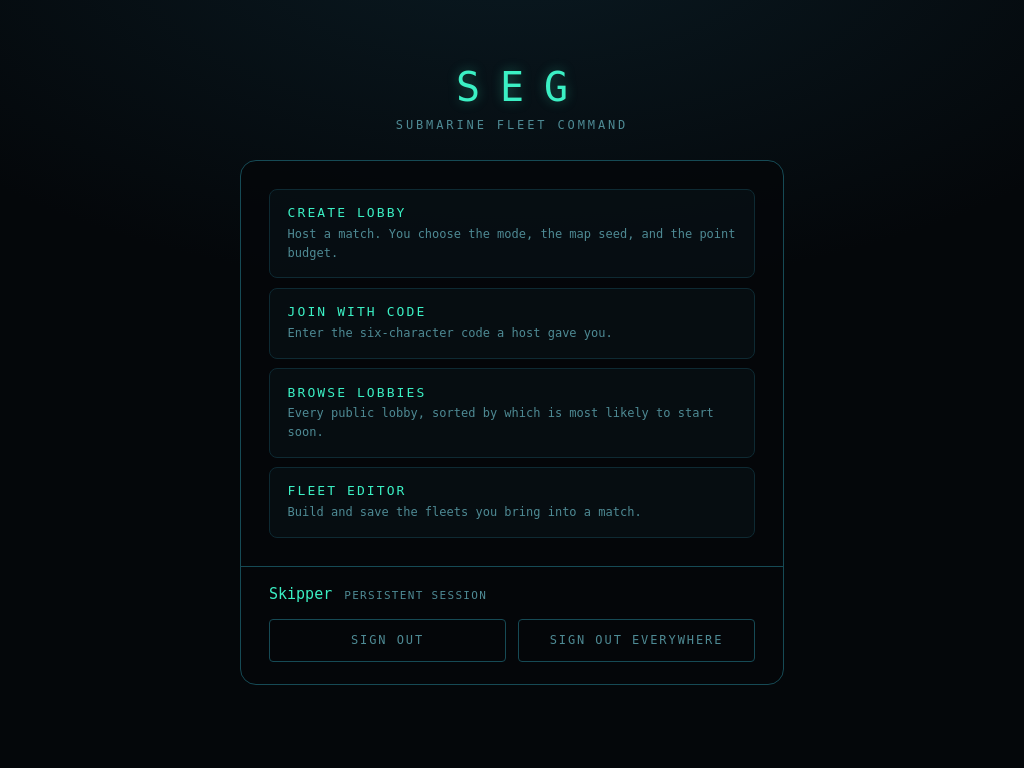
Test: the home page, signed in › reaches {}
What coordinates should you click on to do the following:
click the button "CREATE LOBBY"
I would click on:
 (512, 234)
Its box is x1=269 y1=189 x2=755 y2=278.
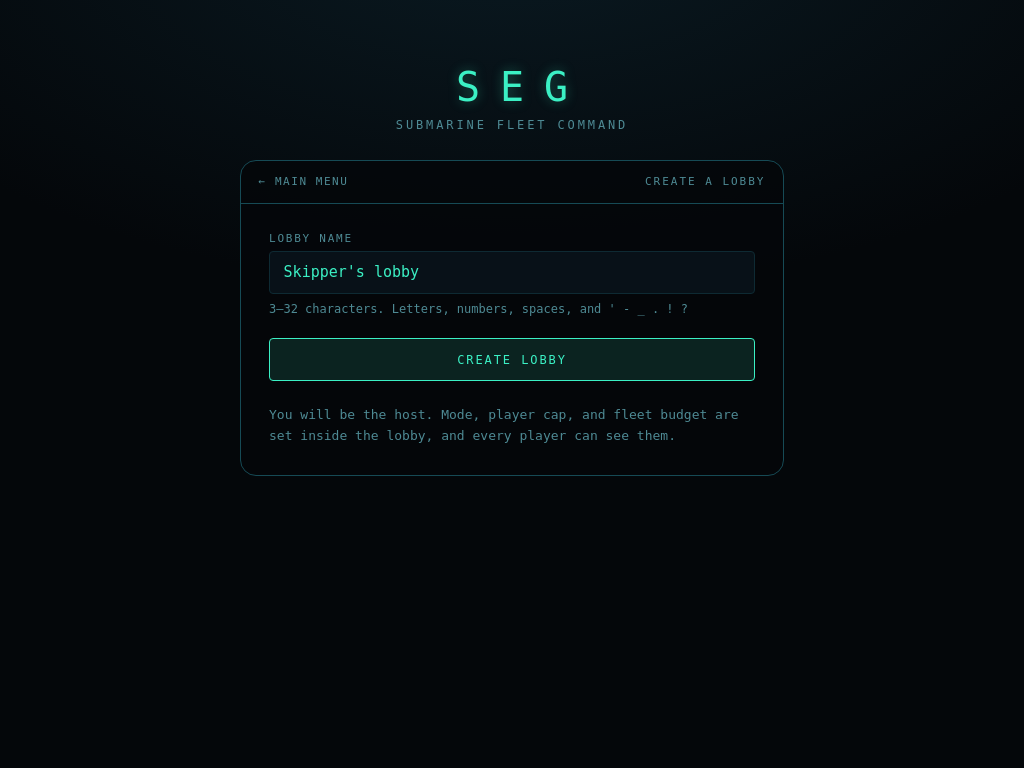
Now the heading "Create a lobby" is shown, box x1=645 y1=175 x2=765 y2=188
